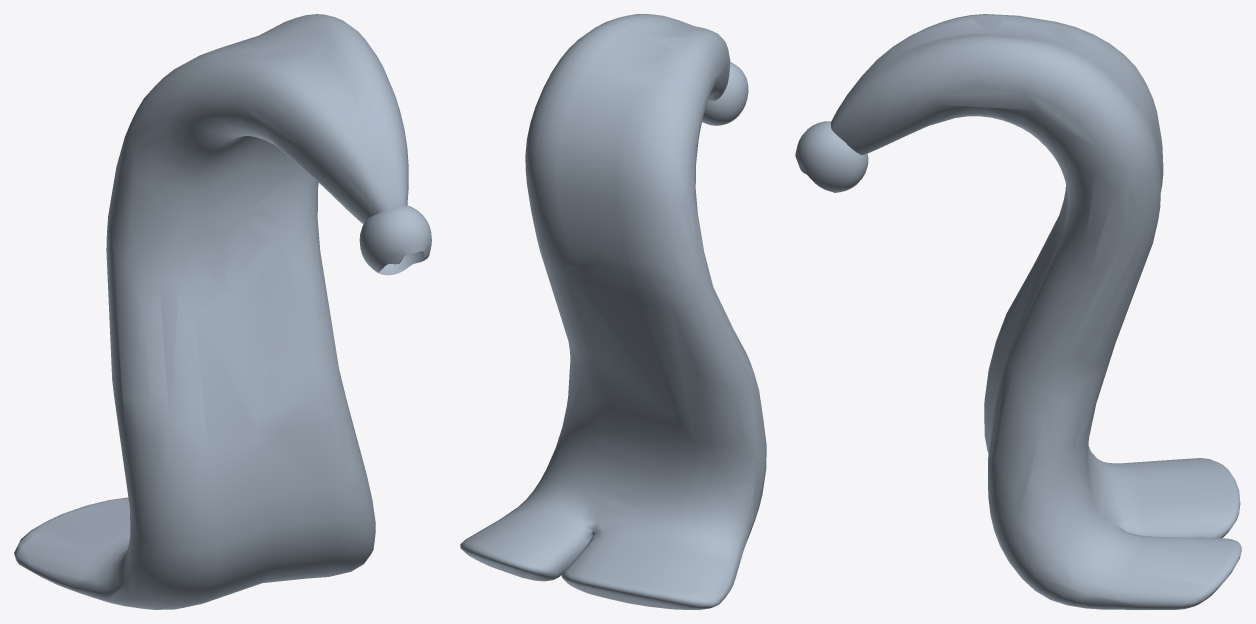
The model's file is Tail_07.fbx.
3 views of the same model, side by side, from view 1: azimuth 30°, elevation 25°; view 2: azimuth 150°, elevation 25°; view 3: azimuth 270°, elevation 25° (orthographic). The views are drawn at different scales.
Visible parts, largest first — view 1: Tail_07; view 2: Tail_07; view 3: Tail_07.
Part boxes in pixels (bbox=[...]): Tail_07: bbox=[14, 14, 431, 609]; Tail_07: bbox=[460, 14, 766, 609]; Tail_07: bbox=[795, 14, 1241, 609].
Bounding box in the file's own units: 158 × 290 × 214.
